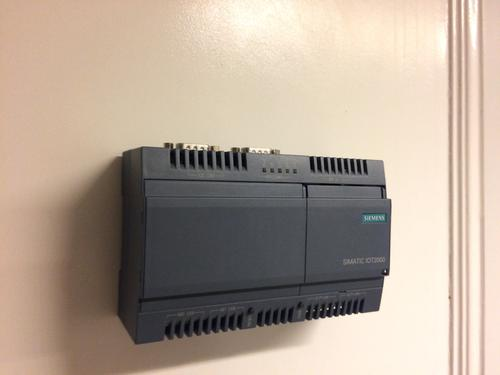iot2000: (116, 141, 392, 345)
